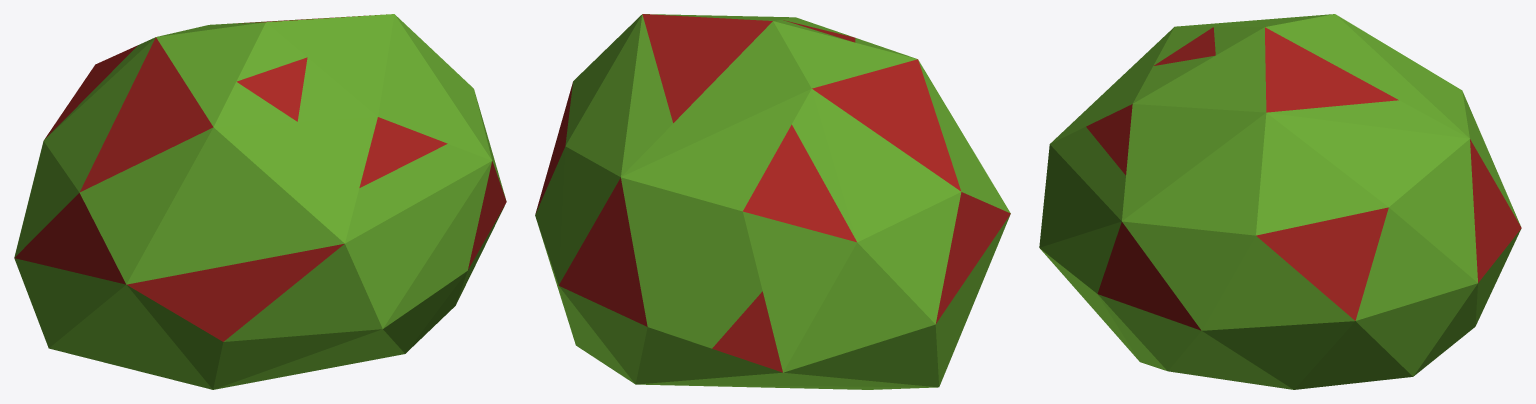
File: BerryBush.fbx
3 views of the same model, side by side, from view 1: azimuth 30°, elevation 25°; view 2: azimuth 150°, elevation 25°; view 3: azimuth 270°, elevation 25° (orthographic). The views are drawn at different scales.
Visible parts, largest first — view 1: Icosphere; view 2: Icosphere; view 3: Icosphere.
Part boxes in pixels (x1,y1,x2,y2): Icosphere: [14, 14, 506, 389]; Icosphere: [535, 14, 1010, 389]; Icosphere: [1039, 14, 1521, 389].
Bounding box in the file's own units: 208 × 155 × 213.
